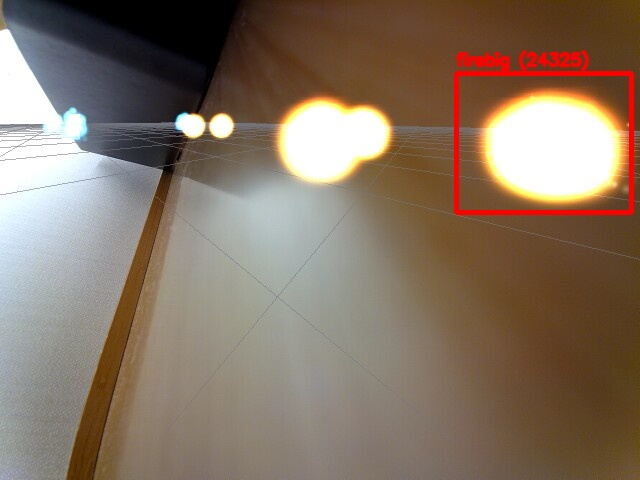firebig: (456, 73, 631, 212)
